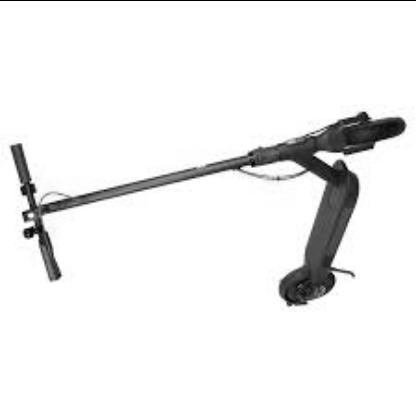bike: (14, 109, 408, 310)
